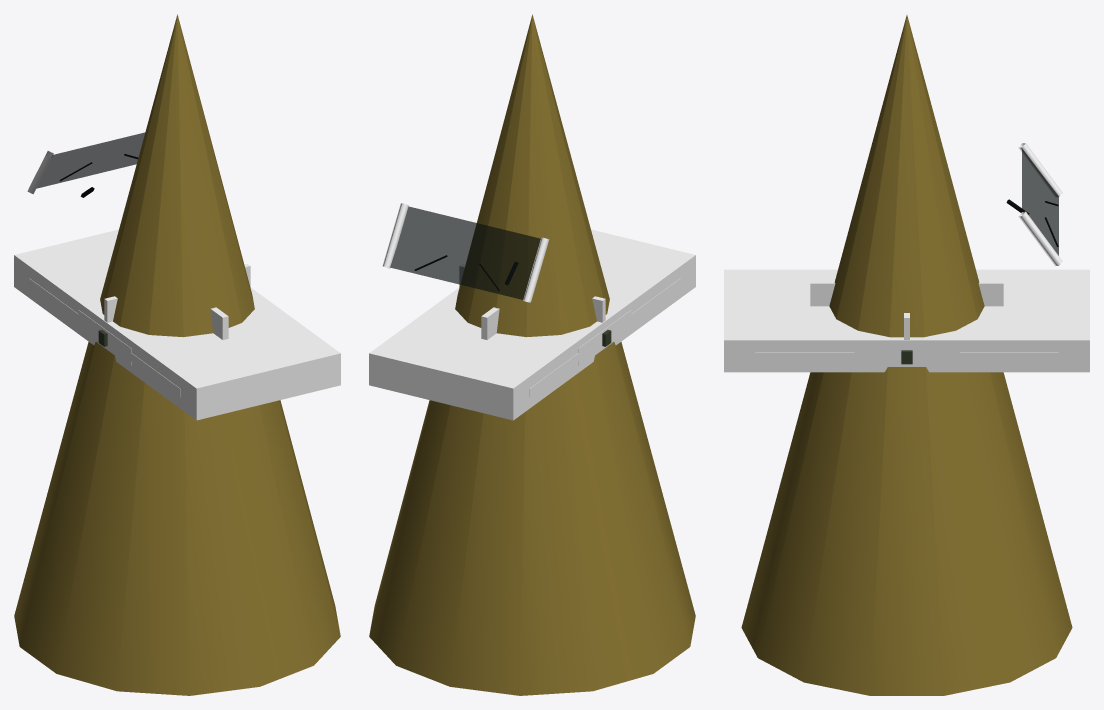
The model's file is bureau9_recon_van.obj.
The picture shows the model from 3 angles, left to right: view 1: azimuth 30°, elevation 25°; view 2: azimuth 150°, elevation 25°; view 3: azimuth 270°, elevation 25°; orthographic projection.
Parts seen in each view (by area): view 1: bureau9_recon_van_DA_0142, bureau9_recon_van_DA_0001, bureau9_recon_van_DA_0084, bureau9_recon_van_DA_0007, bureau9_recon_van_DA_0003; view 2: bureau9_recon_van_DA_0142, bureau9_recon_van_DA_0001, bureau9_recon_van_DA_0084, bureau9_recon_van_DA_0007, bureau9_recon_van_DA_0085, bureau9_recon_van_DA_0086, bureau9_recon_van_DA_0003; view 3: bureau9_recon_van_DA_0142, bureau9_recon_van_DA_0001, bureau9_recon_van_DA_0084, bureau9_recon_van_DA_0007, bureau9_recon_van_DA_0003, bureau9_recon_van_DA_0101, bureau9_recon_van_DA_0086, bureau9_recon_van_DA_0085.
Boxes of the visible parts, x1,y1,x2,y2 form: bureau9_recon_van_DA_0142: [14, 14, 340, 695]; bureau9_recon_van_DA_0001: [14, 229, 340, 420]; bureau9_recon_van_DA_0084: [36, 132, 144, 188]; bureau9_recon_van_DA_0007: [29, 278, 180, 397]; bureau9_recon_van_DA_0003: [78, 310, 131, 365]; bureau9_recon_van_DA_0142: [369, 14, 695, 695]; bureau9_recon_van_DA_0001: [369, 229, 695, 420]; bureau9_recon_van_DA_0084: [390, 206, 540, 299]; bureau9_recon_van_DA_0007: [529, 278, 680, 397]; bureau9_recon_van_DA_0085: [523, 237, 549, 302]; bureau9_recon_van_DA_0086: [382, 203, 408, 268]; bureau9_recon_van_DA_0003: [578, 310, 631, 365]; bureau9_recon_van_DA_0142: [741, 15, 1072, 695]; bureau9_recon_van_DA_0001: [724, 269, 1089, 372]; bureau9_recon_van_DA_0084: [1022, 148, 1058, 255]; bureau9_recon_van_DA_0007: [755, 352, 1058, 360]; bureau9_recon_van_DA_0003: [854, 347, 959, 364]; bureau9_recon_van_DA_0101: [810, 281, 1003, 306]; bureau9_recon_van_DA_0086: [1018, 211, 1062, 266]; bureau9_recon_van_DA_0085: [1018, 143, 1062, 196].
Size of the model in its own units: 4.29 by 9 by 4.86.
